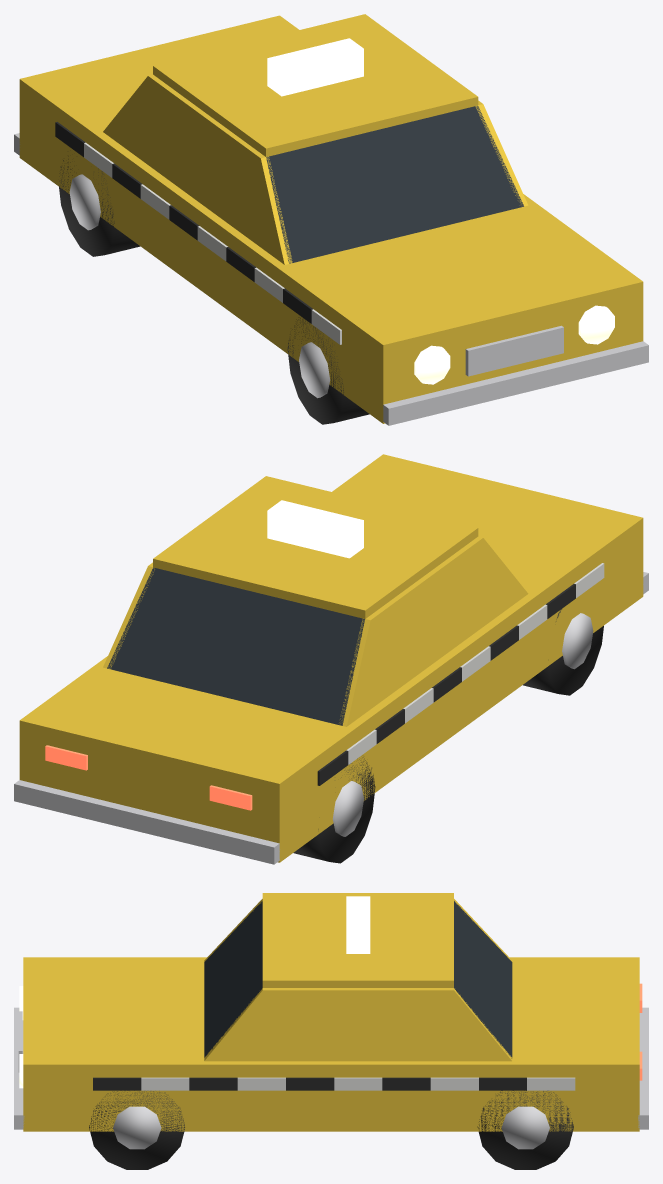
File: Taxi.glb
The picture shows the model from 3 angles, top to bottom: view 1: azimuth 30°, elevation 25°; view 2: azimuth 150°, elevation 25°; view 3: azimuth 270°, elevation 25°; orthographic projection. The views are drawn at different scales.
Visible parts, largest first — view 1: Taxi_cube, Taxi_tbox, Taxi_tbox.001, Taxi_tbox.002, Taxi_cube.023, Taxi_cube.026, Taxi_cube.025, Taxi_cyl, Taxi_cyl.002, Taxi_cyl.003, Taxi_cyl.001, Taxi_cyl.009 (+2 smaller); view 2: Taxi_cube, Taxi_tbox, Taxi_tbox.001, Taxi_tbox.002, Taxi_cube.024, Taxi_cube.026, Taxi_cyl.002, Taxi_cyl, Taxi_cyl.003, Taxi_cyl.001, Taxi_tbox.003, Taxi_cube.021 (+1 smaller); view 3: Taxi_cube, Taxi_tbox.003, Taxi_tbox.001, Taxi_tbox, Taxi_cyl.006, Taxi_cyl.004, Taxi_cyl.005, Taxi_cyl.007, Taxi_cube.026, Taxi_cube.024, Taxi_cube.023, Taxi_cube.005 (+9 smaller).
Boxes of the visible parts, left/top/right/bottom form: Taxi_cube: left=19, top=15, right=643, bottom=423; Taxi_tbox: left=266, top=106, right=523, bottom=263; Taxi_tbox.001: left=153, top=14, right=478, bottom=156; Taxi_tbox.002: left=103, top=74, right=292, bottom=264; Taxi_cube.023: left=383, top=341, right=648, bottom=425; Taxi_cube.026: left=267, top=38, right=363, bottom=96; Taxi_cube.025: left=465, top=325, right=563, bottom=376; Taxi_cyl: left=287, top=317, right=369, bottom=424; Taxi_cyl.002: left=59, top=156, right=140, bottom=256; Taxi_cyl.003: left=69, top=174, right=100, bottom=230; Taxi_cyl.001: left=299, top=342, right=330, bottom=398; Taxi_cyl.009: left=578, top=305, right=614, bottom=344; Taxi_cube: left=19, top=454, right=643, bottom=862; Taxi_tbox: left=107, top=567, right=364, bottom=725; Taxi_tbox.001: left=153, top=476, right=478, bottom=618; Taxi_tbox.002: left=339, top=536, right=528, bottom=726; Taxi_cube.024: left=14, top=780, right=279, bottom=864; Taxi_cube.026: left=267, top=500, right=363, bottom=558; Taxi_cyl.002: left=293, top=757, right=375, bottom=863; Taxi_cyl: left=523, top=609, right=603, bottom=695; Taxi_cyl.003: left=332, top=781, right=363, bottom=836; Taxi_cyl.001: left=562, top=613, right=593, bottom=669; Taxi_tbox.003: left=103, top=562, right=154, bottom=668; Taxi_cube.021: left=209, top=785, right=252, bottom=810; Taxi_cube: left=23, top=957, right=639, bottom=1131; Taxi_tbox.003: left=204, top=988, right=512, bottom=1061; Taxi_tbox.001: left=262, top=893, right=453, bottom=987; Taxi_tbox: left=204, top=901, right=512, bottom=1058; Taxi_cyl.006: left=477, top=1090, right=573, bottom=1169; Taxi_cyl.004: left=89, top=1091, right=184, bottom=1169; Taxi_cyl.005: left=113, top=1106, right=161, bottom=1149; Taxi_cyl.007: left=501, top=1106, right=549, bottom=1149; Taxi_cube.026: left=346, top=896, right=370, bottom=953; Taxi_cube.024: left=638, top=1007, right=648, bottom=1129; Taxi_cube.023: left=14, top=1007, right=24, bottom=1129; Taxi_cube.005: left=189, top=1077, right=237, bottom=1090.
Size of the model in its own units: 1.94 by 1.67 by 4.74.
